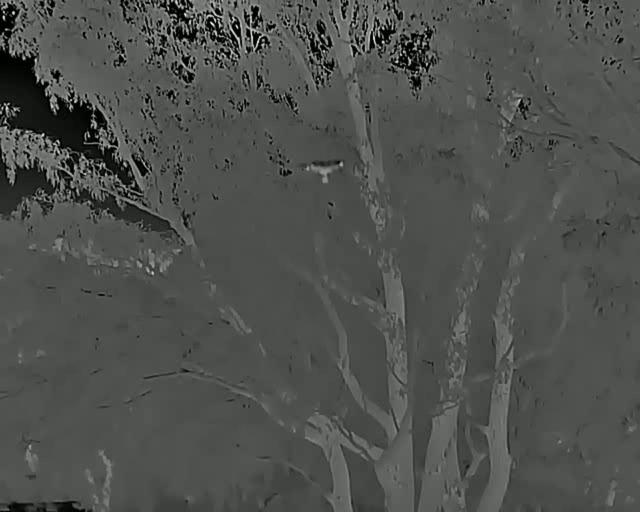DJI-Phantom: (305, 165, 348, 185)
